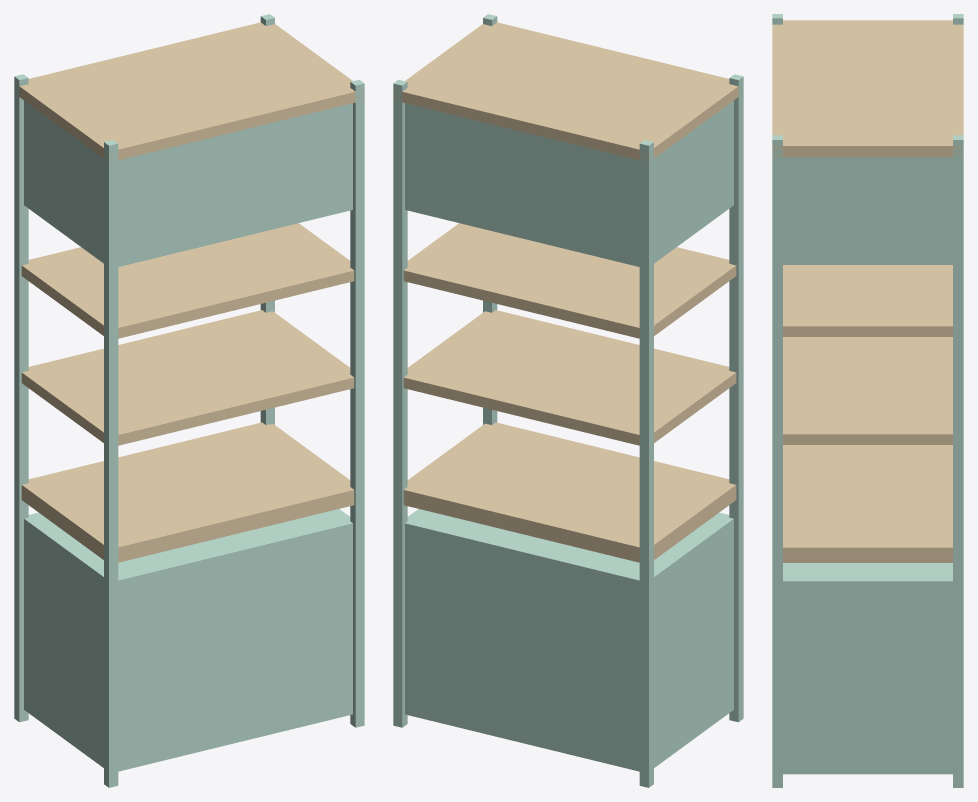
The model's file is fabio-mint.glb.
The picture shows the model from 3 angles, left to right: view 1: azimuth 30°, elevation 25°; view 2: azimuth 150°, elevation 25°; view 3: azimuth 270°, elevation 25°; orthographic projection.
Size of the model in its own units: 0.7 by 1.68 by 0.45.
